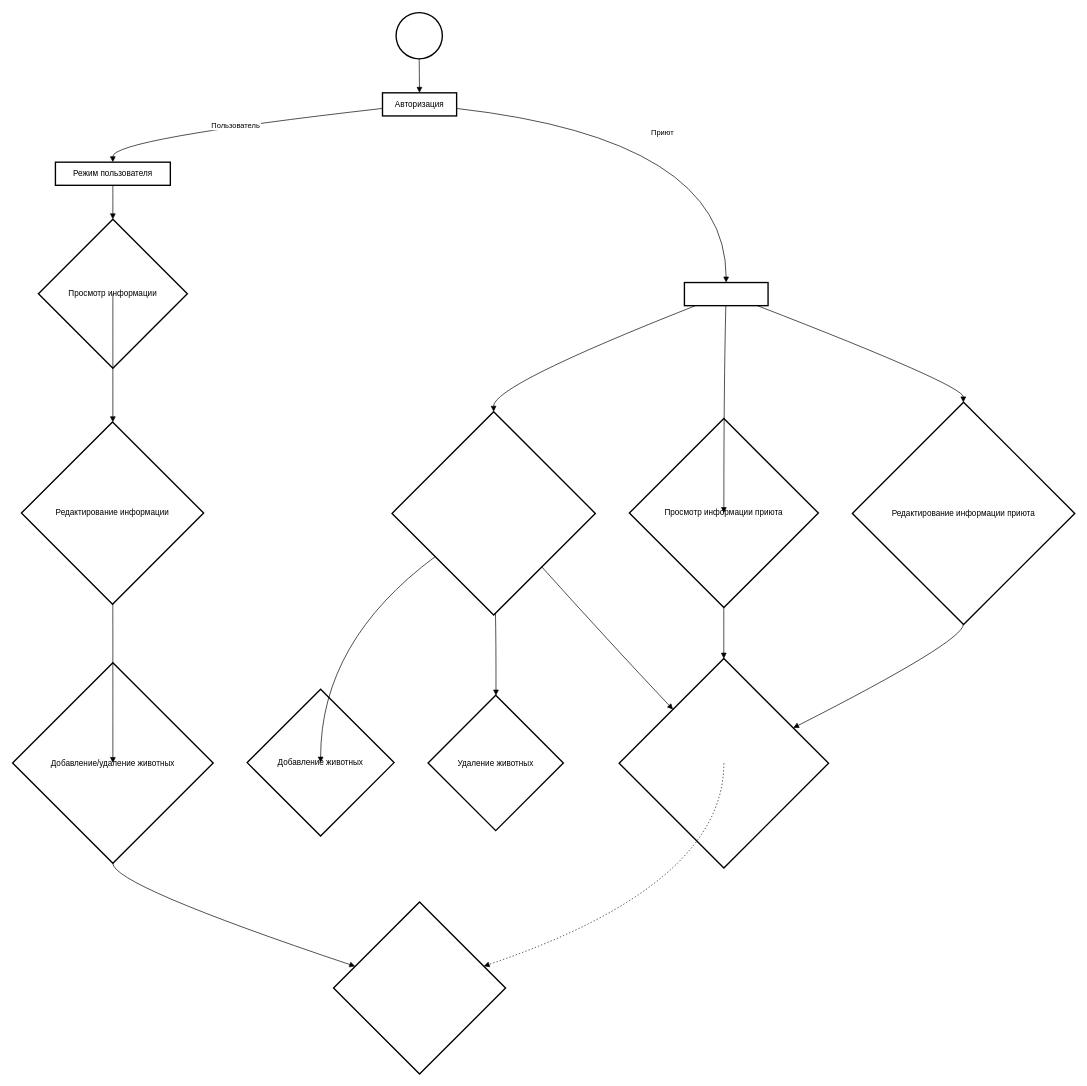
The diagram is 1087 pixels wide and 1086 high, and some of its shapes have lost their labels. The centre of each missing label's shape, as x and y in pixels:
Начало: [419,35]
Просмотр всех животных в приюте: [723,763]
Просмотр списка животных: [419,987]
Режим приюта: [725,294]
Управление животными в приюте: [493,513]
